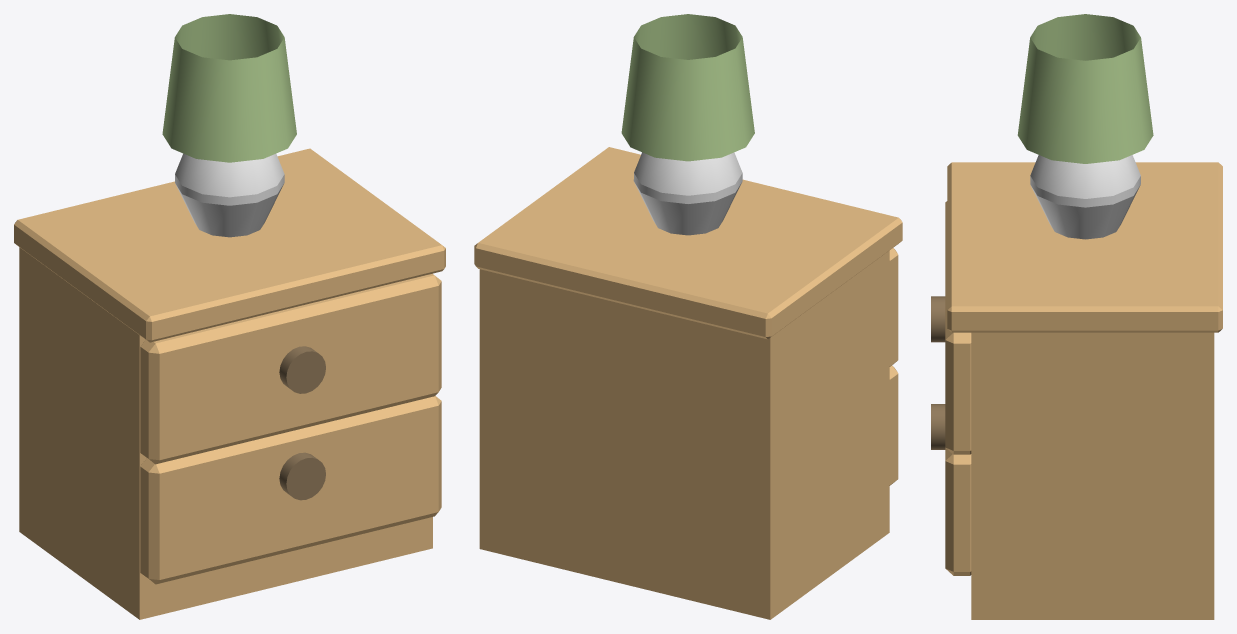
Rendered from nightstand_01.fbx.
The picture shows the model from 3 angles, left to right: view 1: azimuth 30°, elevation 25°; view 2: azimuth 150°, elevation 25°; view 3: azimuth 270°, elevation 25°; orthographic projection.
Visible parts, largest first — view 1: pCube242, pCube245, pCube244, pCube243, pCylinder98, pCylinder97, pCylinder96, pCylinder95; view 2: pCube242, pCube245, pCylinder98, pCylinder97, pCube243, pCube244; view 3: pCube242, pCube245, pCylinder98, pCylinder97, pCube244, pCube243, pCylinder96, pCylinder95.
Boxes of the visible parts, x1,y1,x2,y2 form: pCube242: [19, 247, 432, 619]; pCube245: [14, 148, 445, 342]; pCube244: [140, 273, 441, 464]; pCube243: [140, 396, 441, 584]; pCylinder98: [162, 14, 296, 162]; pCylinder97: [175, 153, 284, 237]; pCylinder96: [279, 346, 325, 393]; pCylinder95: [279, 452, 325, 500]; pCube242: [479, 250, 889, 619]; pCube245: [474, 147, 902, 339]; pCylinder98: [621, 14, 754, 161]; pCylinder97: [633, 152, 742, 235]; pCube243: [889, 365, 898, 485]; pCube244: [889, 248, 898, 366]; pCube242: [971, 332, 1214, 619]; pCube245: [947, 162, 1222, 332]; pCylinder98: [1017, 14, 1153, 163]; pCylinder97: [1030, 155, 1140, 239]; pCube244: [945, 201, 971, 454]; pCube243: [945, 448, 971, 575]; pCylinder96: [931, 296, 945, 342]; pCylinder95: [931, 404, 945, 449].
Bounding box in the file's own units: 5.2 × 8.38 × 4.34.
